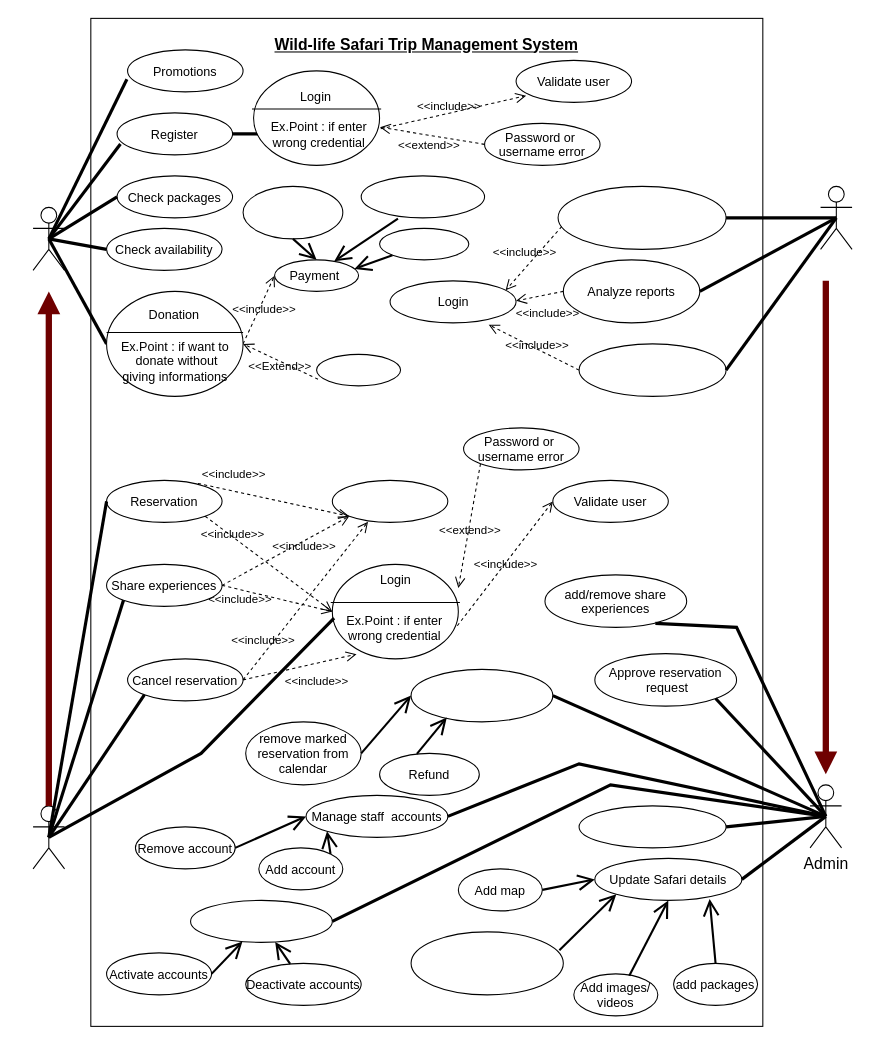
Image size: 885x1045. Some labels were removed from this diagram. Each missing label, with the box of its shape:
Add details about safari and accomodation: (410, 931, 563, 995)
Approve cancel request: (410, 668, 553, 722)
Authorization from admin: (331, 479, 448, 522)
Direct payment to bank: (360, 175, 485, 218)
Enter details: (316, 353, 401, 386)
Generate report: (557, 185, 726, 249)
Guest: (32, 206, 65, 270)
Manage funds: (578, 343, 726, 396)
Manage user accounts: (190, 899, 332, 942)
Manager: (820, 185, 852, 249)
Pay via debit/credit card: (242, 185, 343, 239)
pay via paypal: (379, 227, 469, 260)
Registered User: (32, 805, 65, 869)
Update social media platforms: (578, 805, 726, 848)
